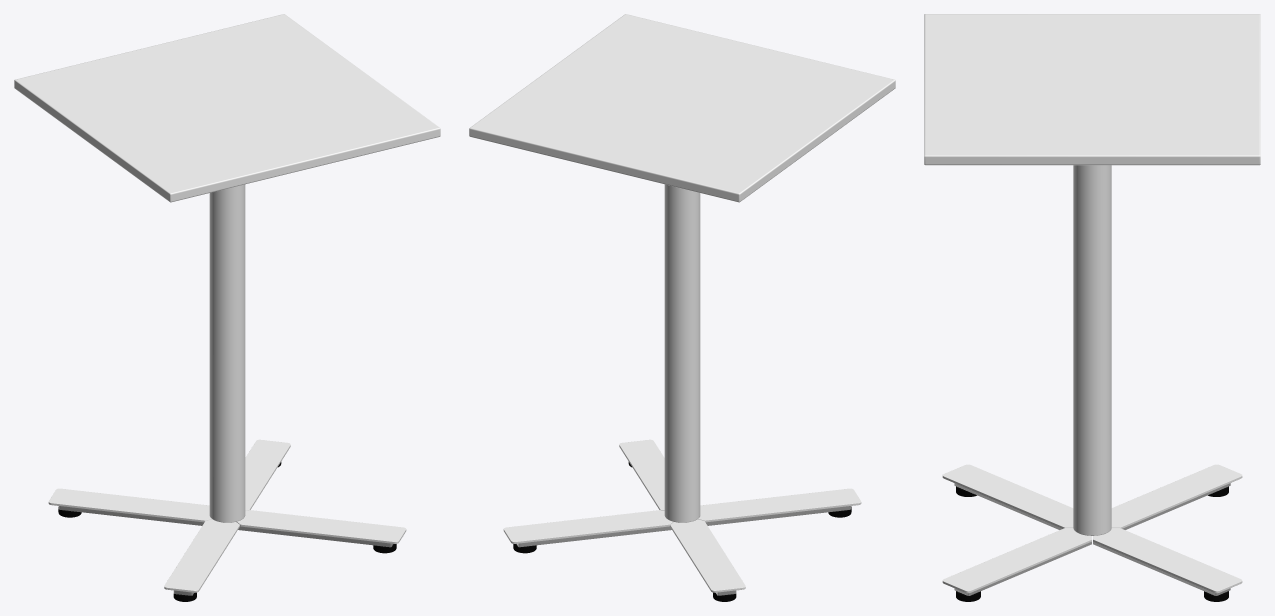
File: StandingTable.obj
3 views of the same model, side by side, from view 1: azimuth 30°, elevation 25°; view 2: azimuth 150°, elevation 25°; view 3: azimuth 270°, elevation 25° (orthographic). The views are drawn at different scales.
Parts seen in each view (by area): view 1: SM_Stehtisch_2; view 2: SM_Stehtisch_2; view 3: SM_Stehtisch_2.
Part boxes in pixels (x1,y1,x2,y2): SM_Stehtisch_2: (14,14,440,601); SM_Stehtisch_2: (469,14,895,601); SM_Stehtisch_2: (924,14,1260,601).
Size of the model in its own units: 70.01 by 106 by 70.01.
